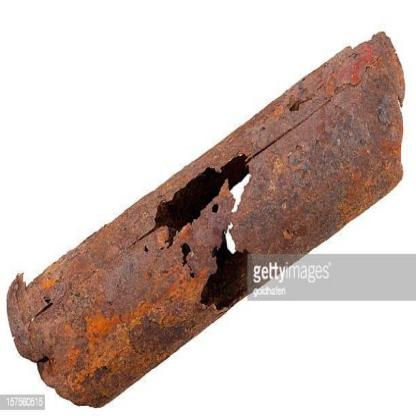burst: (147, 154, 251, 320)
